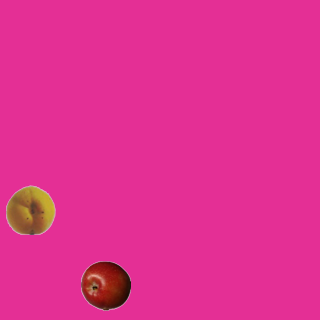Apple Braeburn: (80, 260, 130, 310)
Peach 2: (5, 184, 55, 234)
